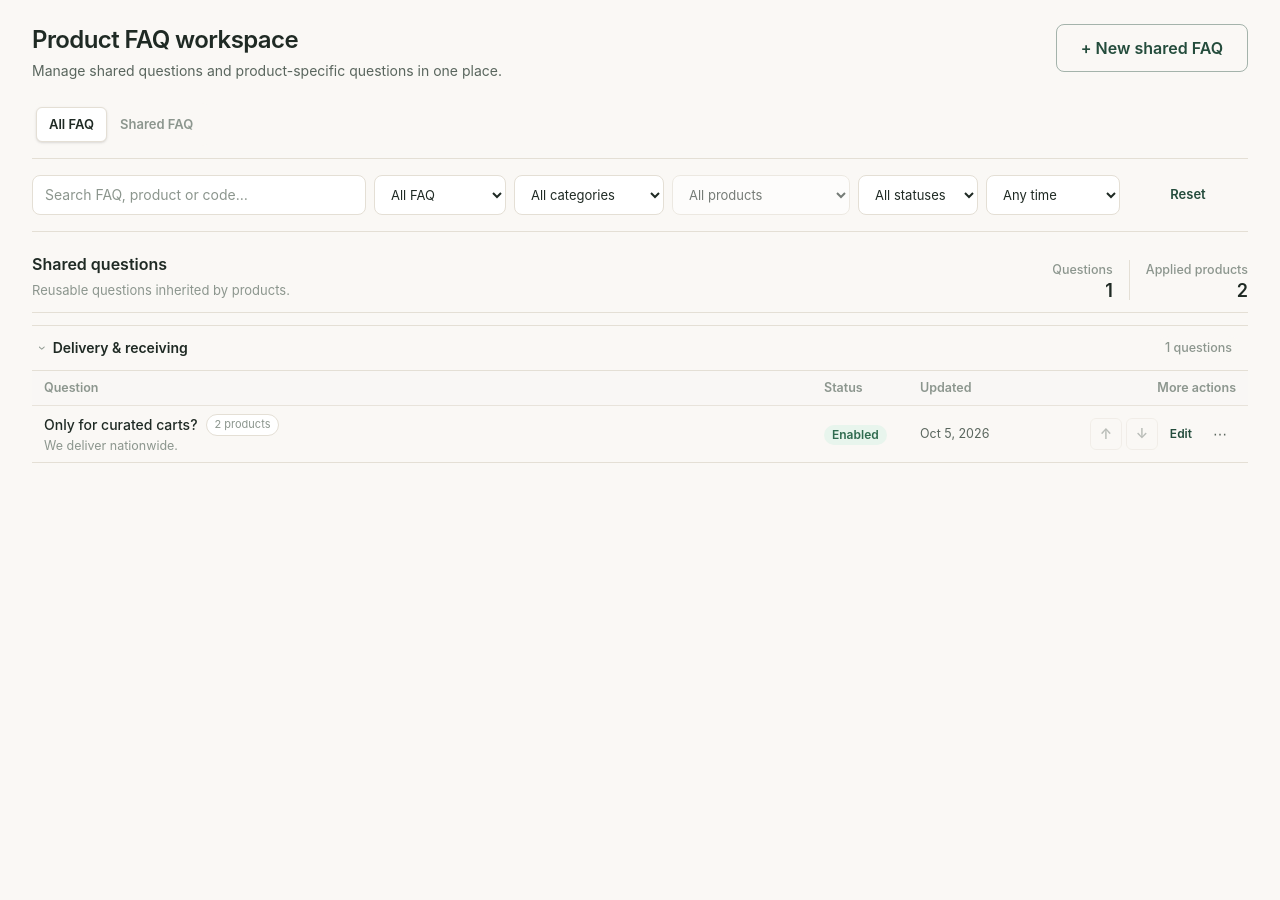
Scenario: FaqWorkspace › re-labels an existing targeted audience when the question is edited
The image size is (1280, 900).
expect the text "Only for curated carts?" is shown: met, box x1=44 y1=415 x2=198 y2=435
expect the text "2 products" is shown: met, box x1=206 y1=414 x2=279 y2=436
Click the button named "More actions — Only for curated carts?". click: click(1220, 434)
box: x1=1204 y1=418 x2=1236 y2=450
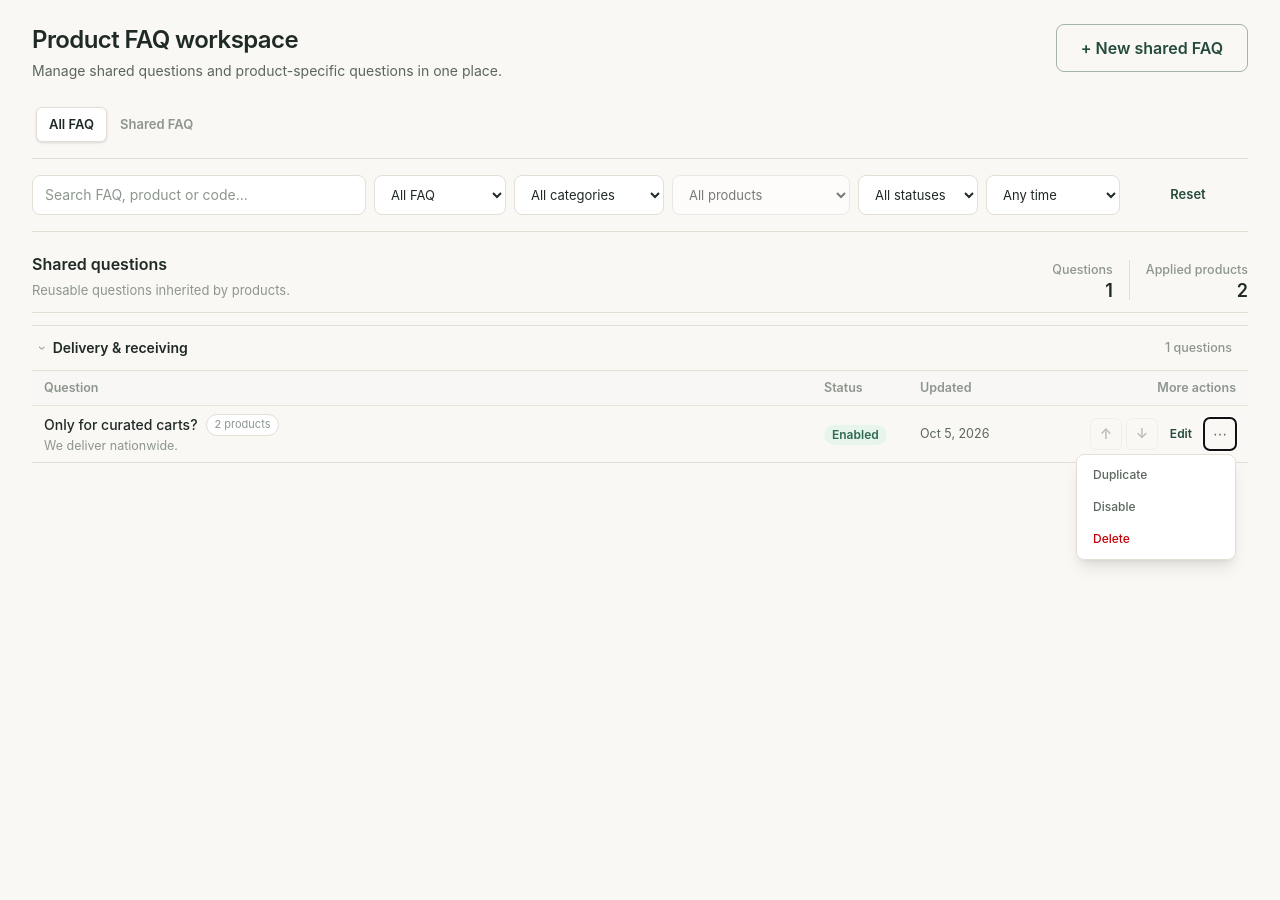
Click the button with aria-label "Edit — Only for curated carts?". click: click(1181, 434)
box: x1=1162 y1=418 x2=1200 y2=450
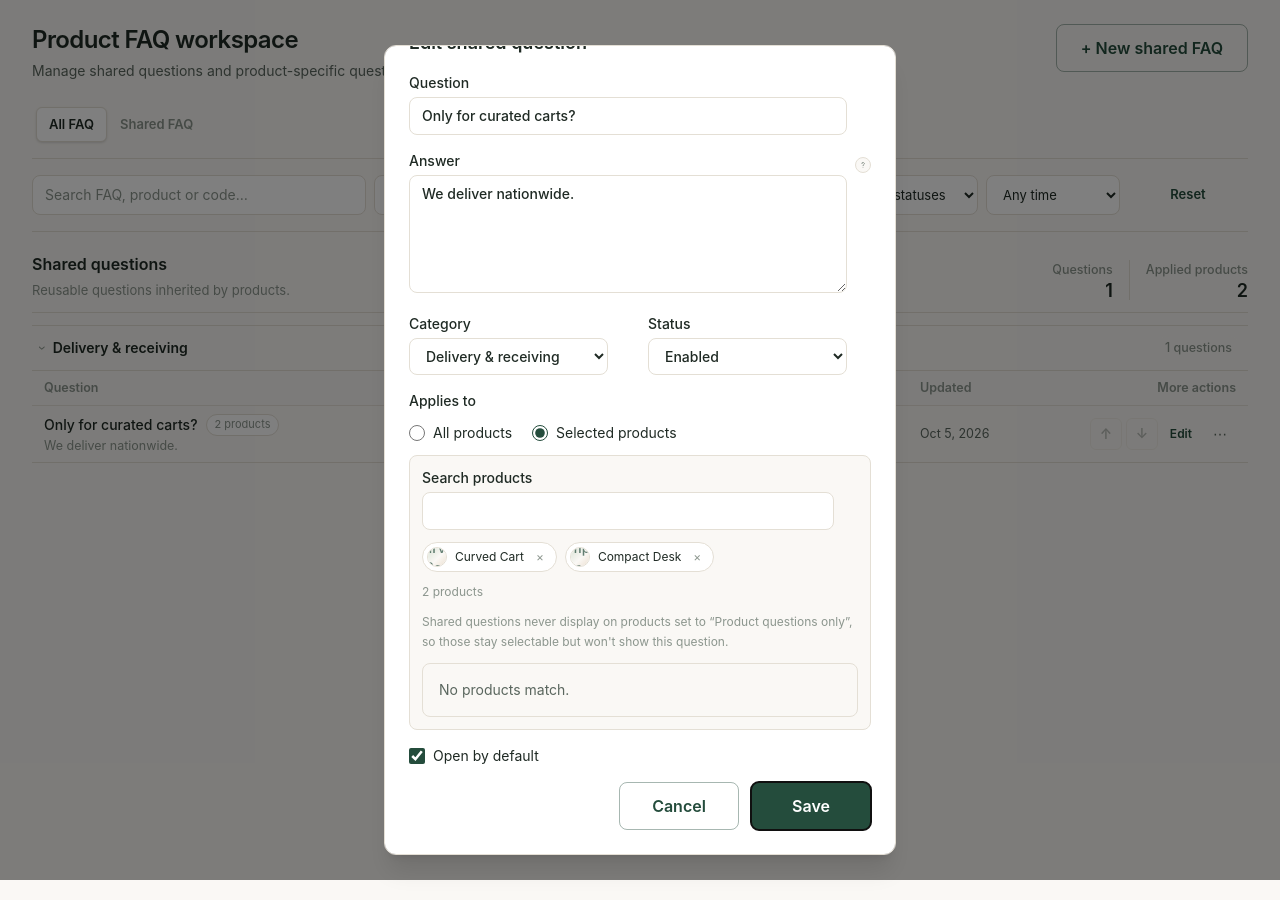
expect the radio button labelled "Selected products" is checked: met, box x1=532 y1=425 x2=548 y2=441
expect the button named "Remove Curved Cart" is shown: met, box x1=532 y1=549 x2=548 y2=565
expect the button named "Remove Compact Desk" is shown: met, box x1=689 y1=549 x2=705 y2=565
